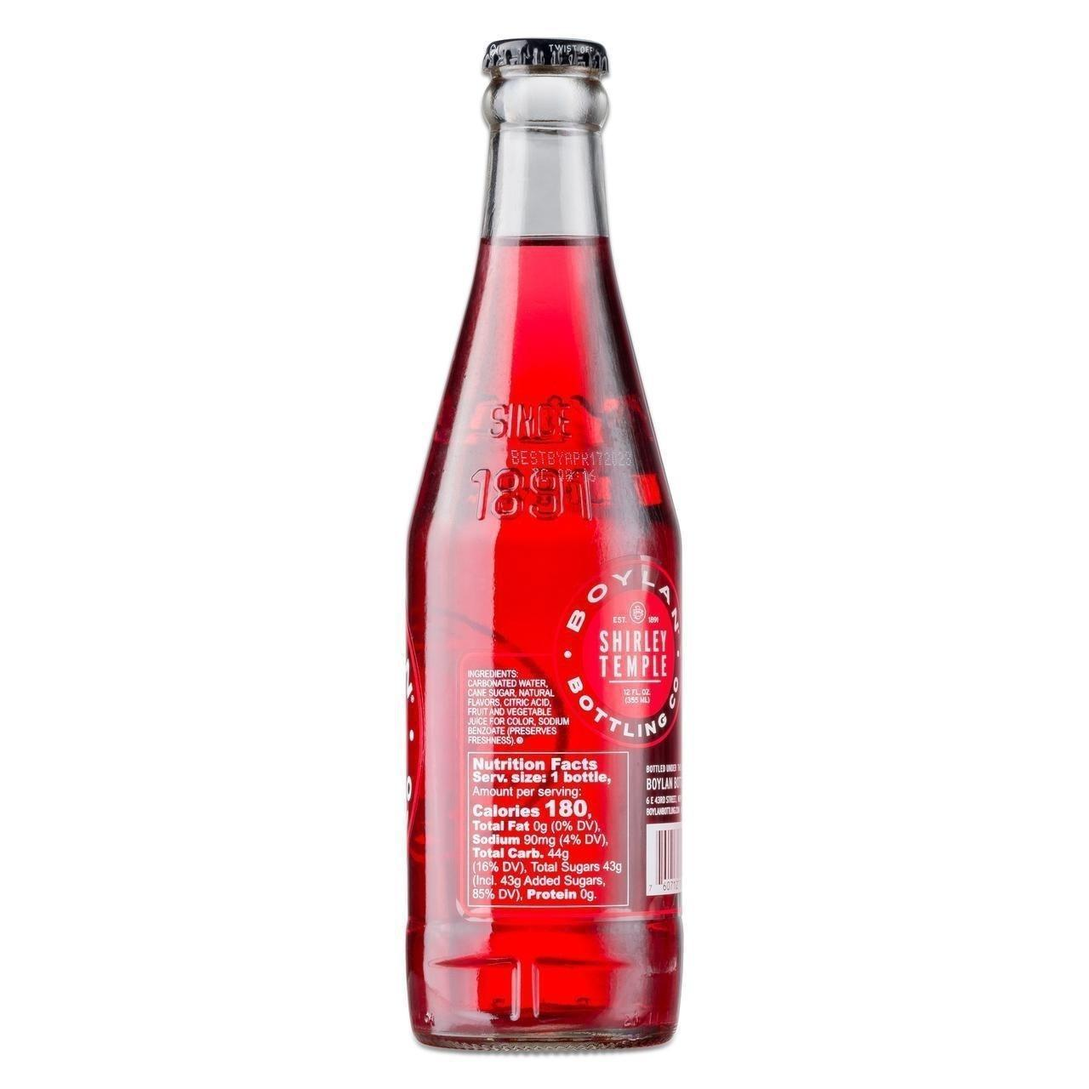bottle-glass: (397, 26, 695, 1066)
